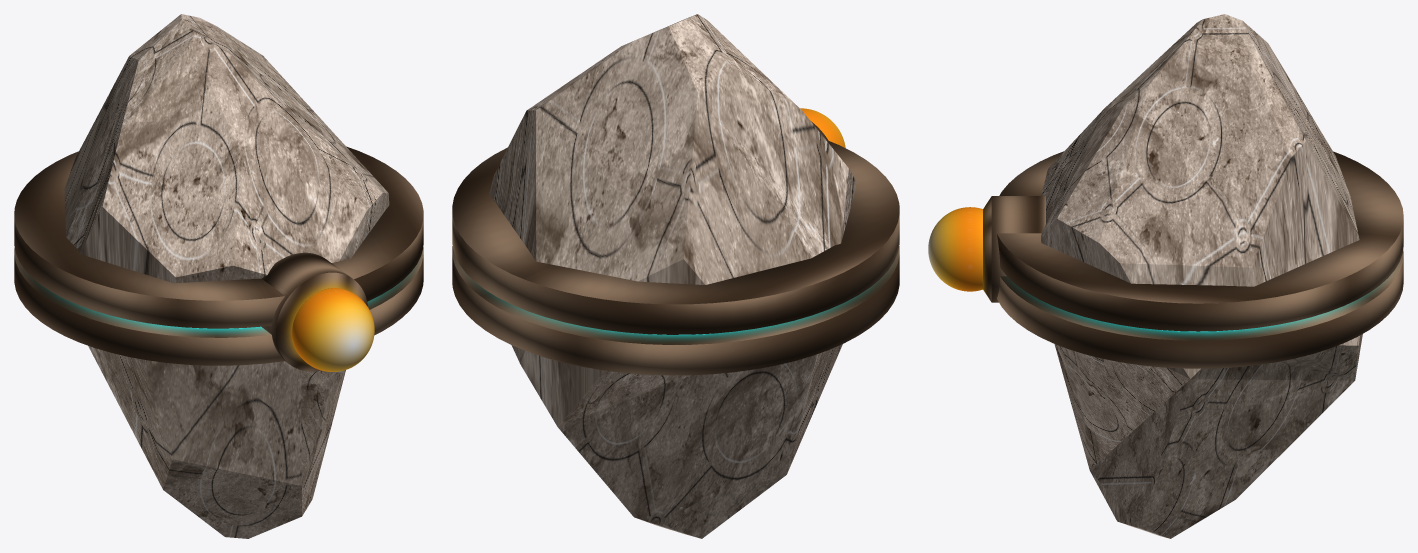
The model's file is barrier stone.fbx.
The picture shows the model from 3 angles, left to right: view 1: azimuth 30°, elevation 25°; view 2: azimuth 150°, elevation 25°; view 3: azimuth 270°, elevation 25°; orthographic projection. The views are drawn at different scales.
Visible parts, largest first — view 1: Stone; view 2: Stone; view 3: Stone.
Part boxes in pixels (box(x1,y1,x2,y2)): Stone: box(14, 14, 423, 538); Stone: box(452, 14, 899, 538); Stone: box(928, 14, 1403, 538).
Bounding box in the file's own units: 431 × 585 × 499.
1 material, 1 textured.
